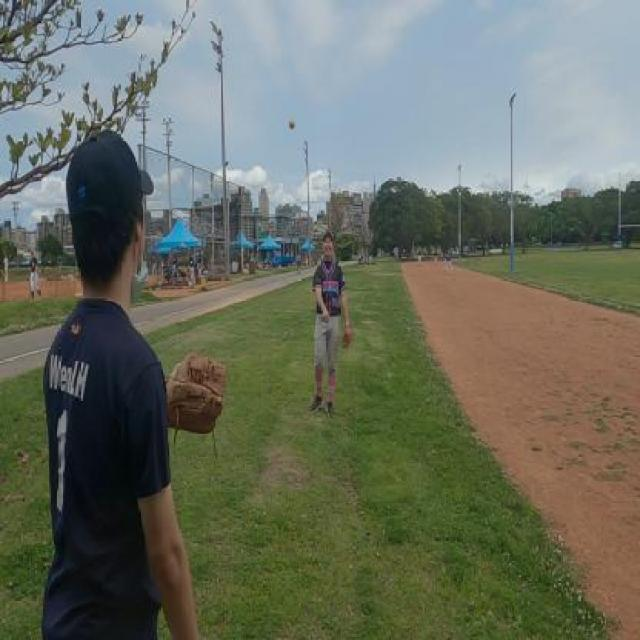baseball: (287, 118, 296, 132)
